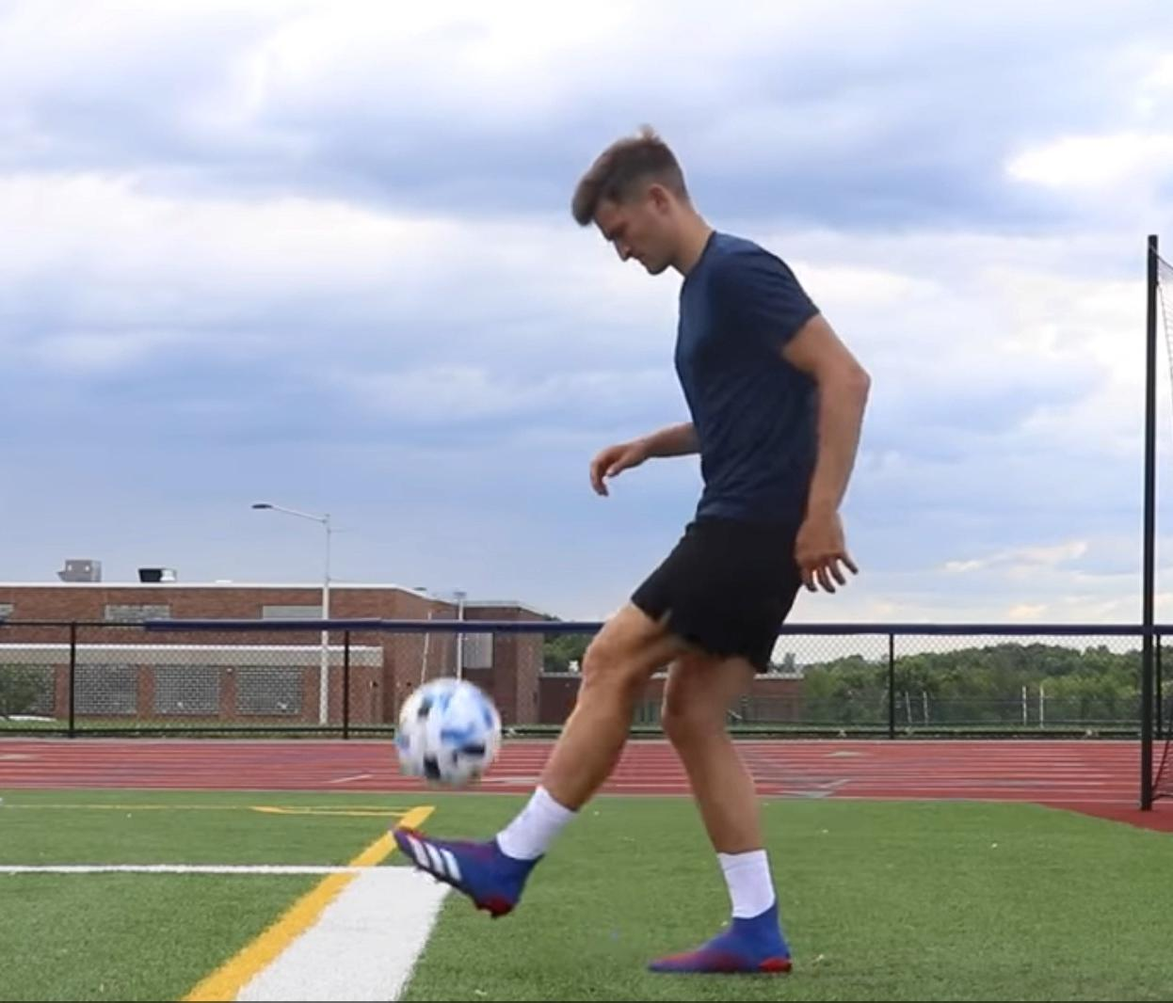ball: (397, 677, 502, 789)
foot: (386, 824, 549, 921), (647, 904, 793, 974)
person: (390, 137, 875, 976)
